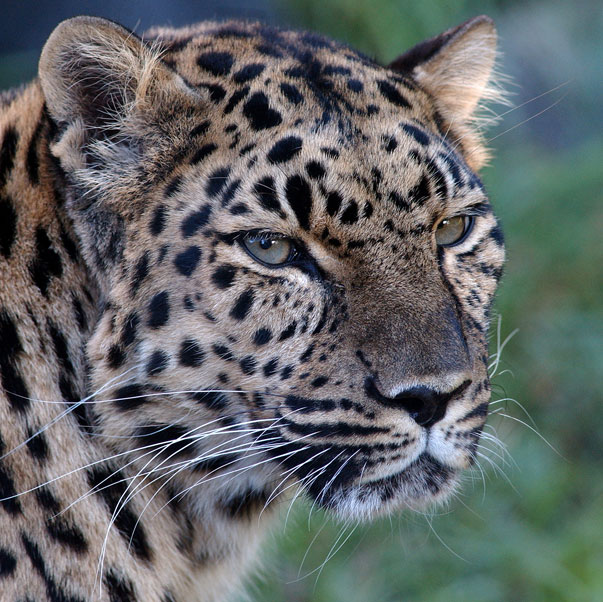amur_leopard: (34, 8, 552, 507)
